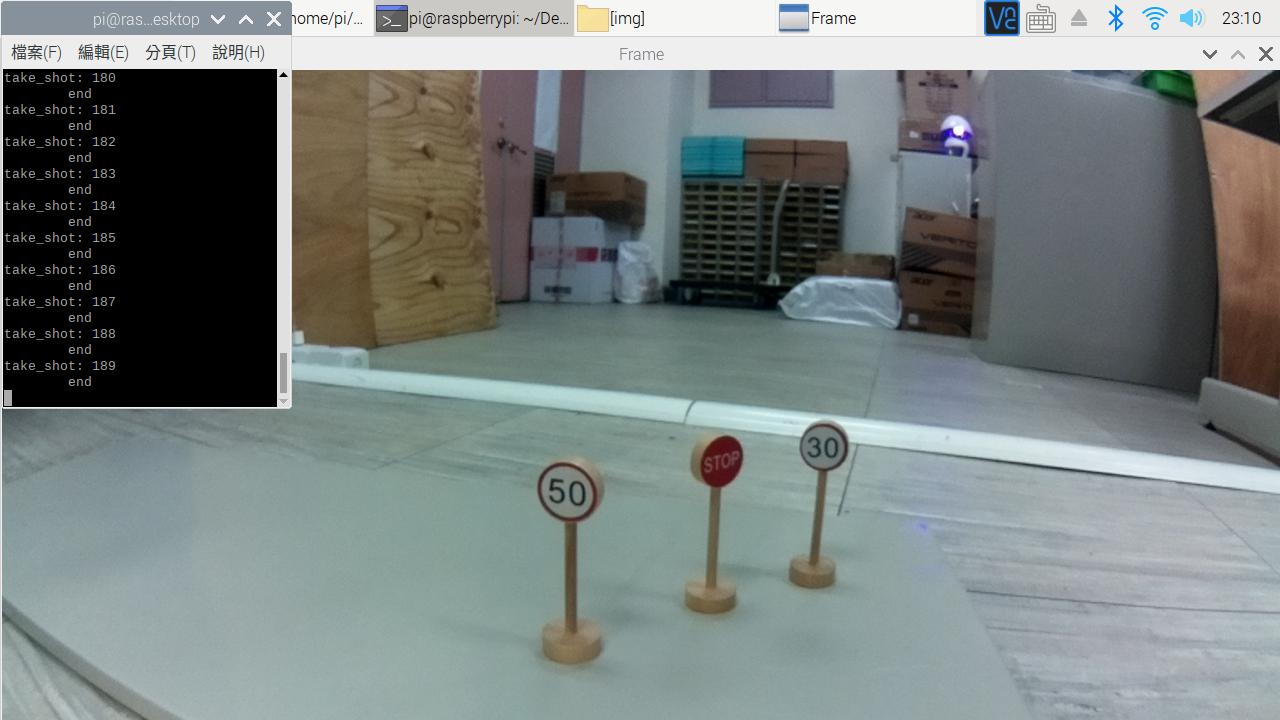Speed30: (792, 416, 856, 479)
Speed50: (529, 455, 612, 526)
Stop: (681, 431, 756, 504)
